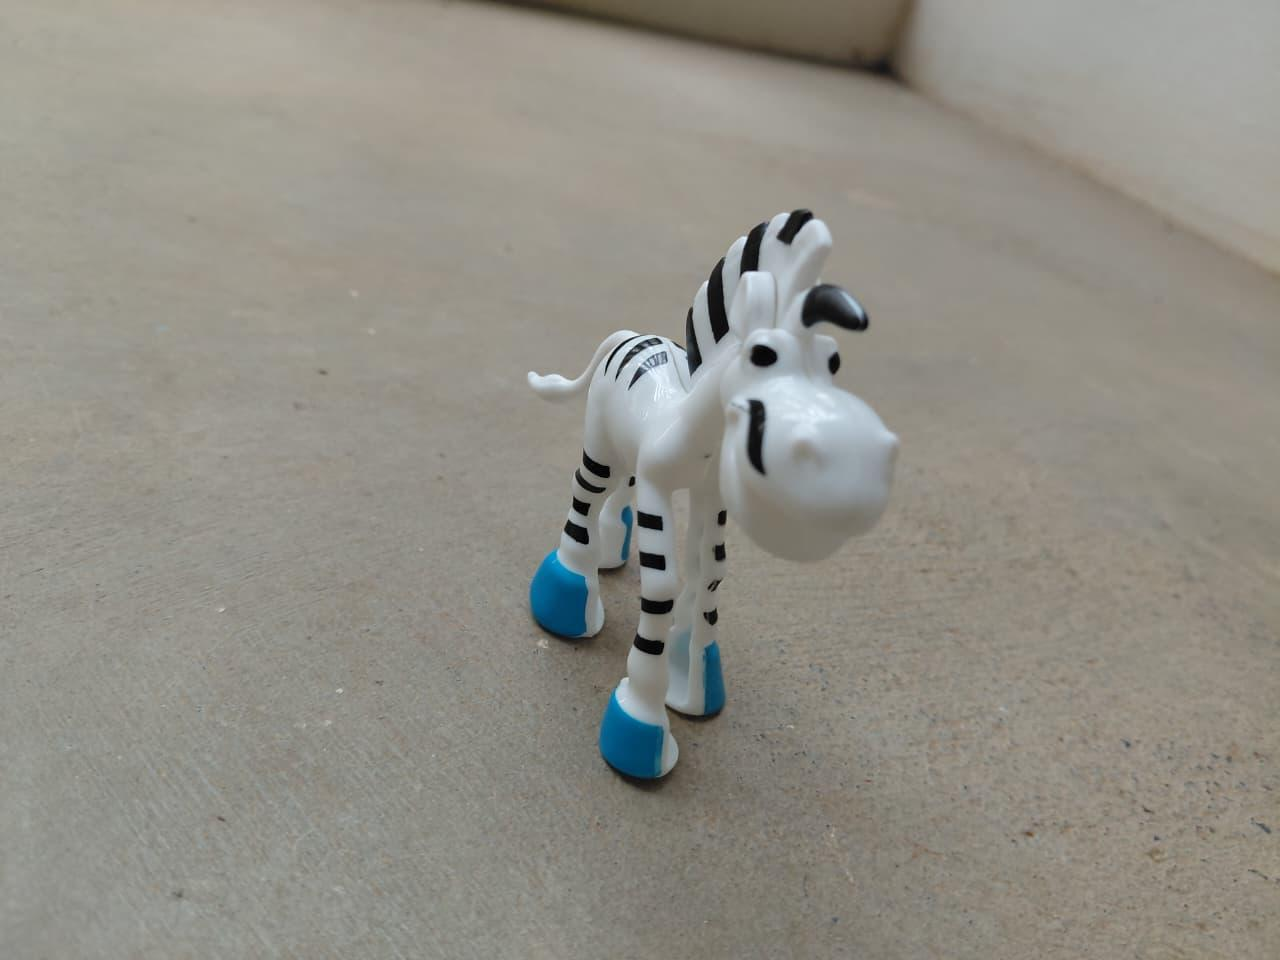zebra: (518, 189, 909, 790)
